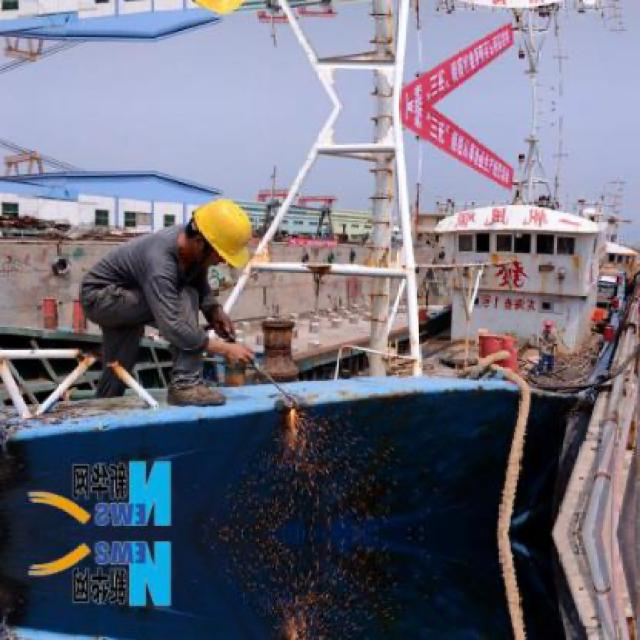con casco: (160, 162, 278, 302)
